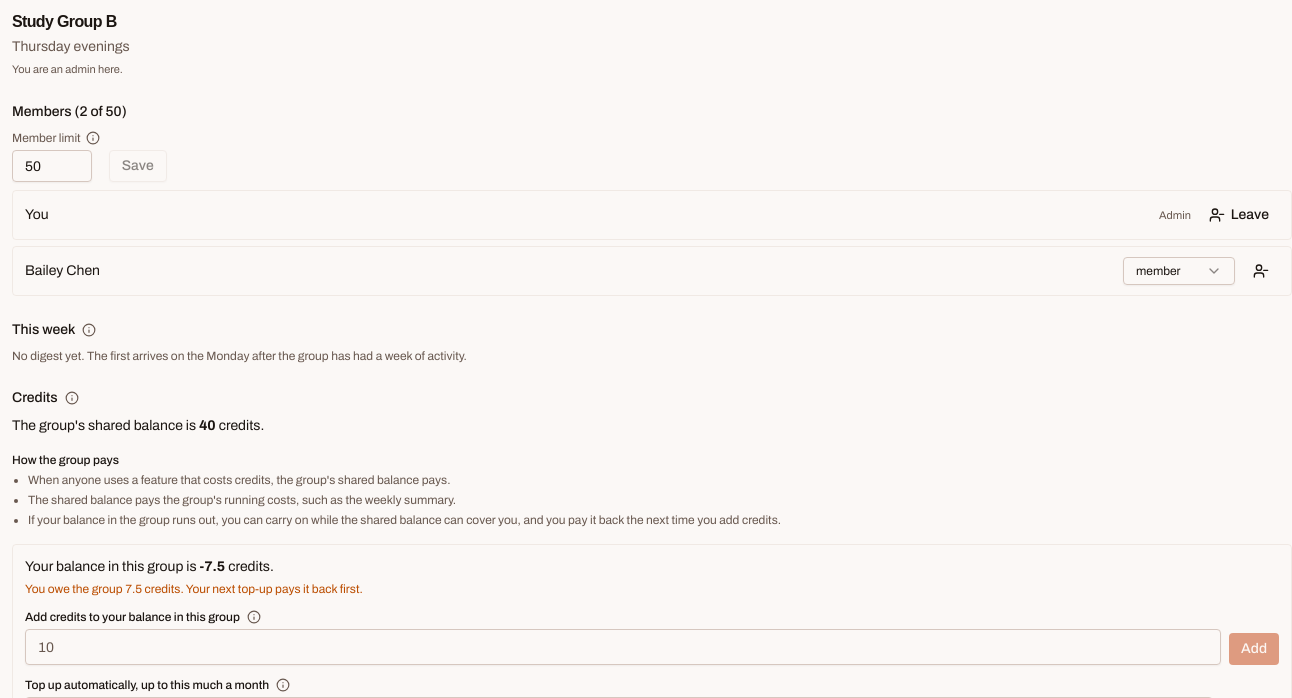
Test: GroupDetail › leaving while owing the group (phase 62) › closes the prompt and sends nothing on Stay
Click the button with aria-label "Leave this group" at [1239, 215], box x1=1199 y1=199 x2=1279 y2=231
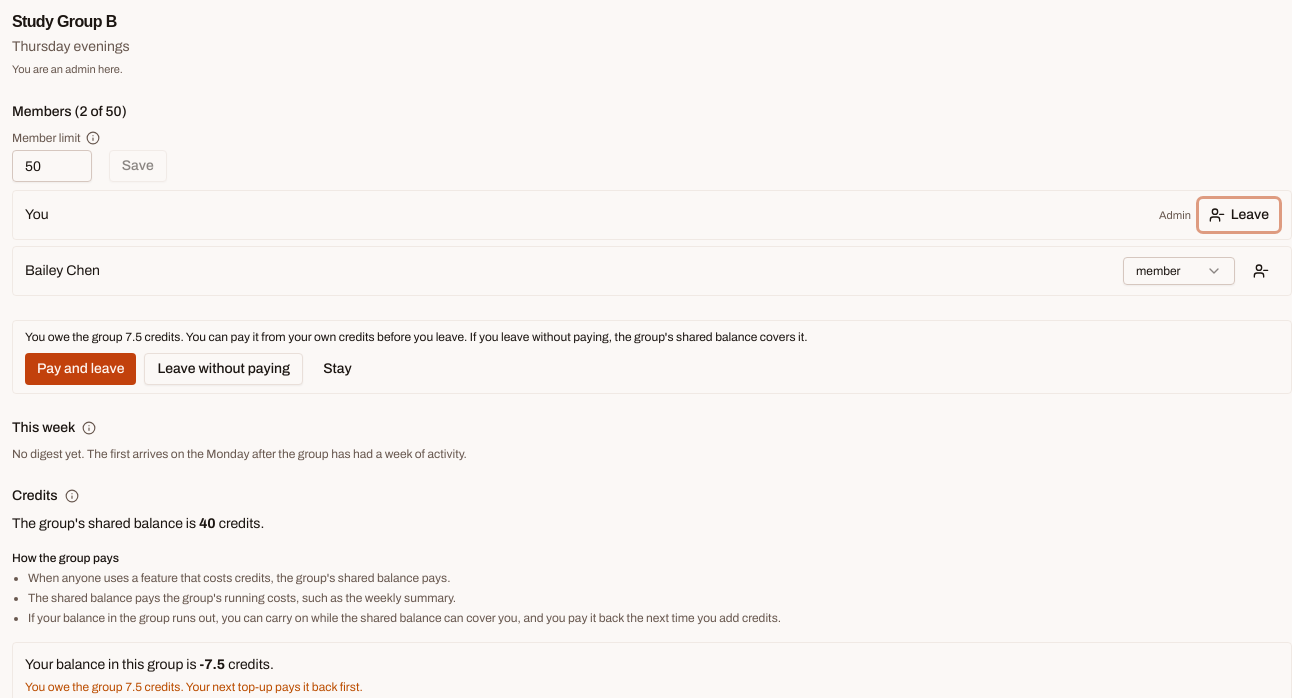
Click the button "Stay" at [337, 369], box x1=311 y1=353 x2=364 y2=385
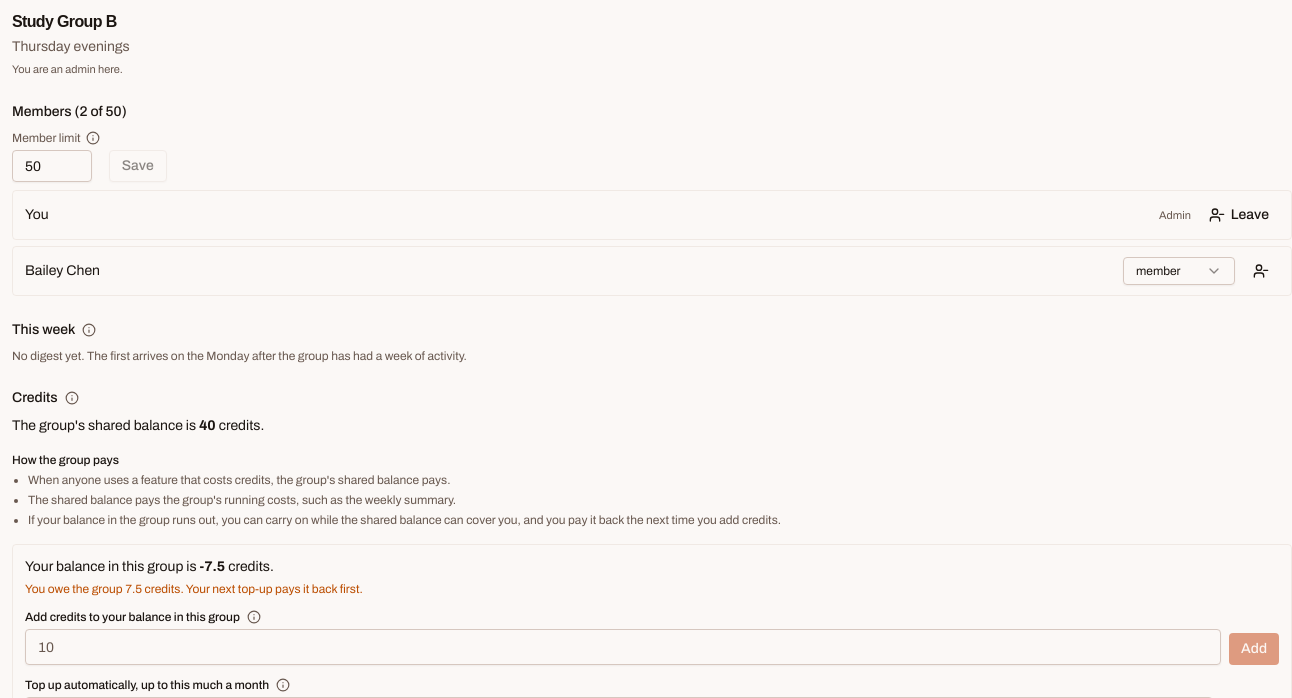
Result: the text "before you leave" is gone
